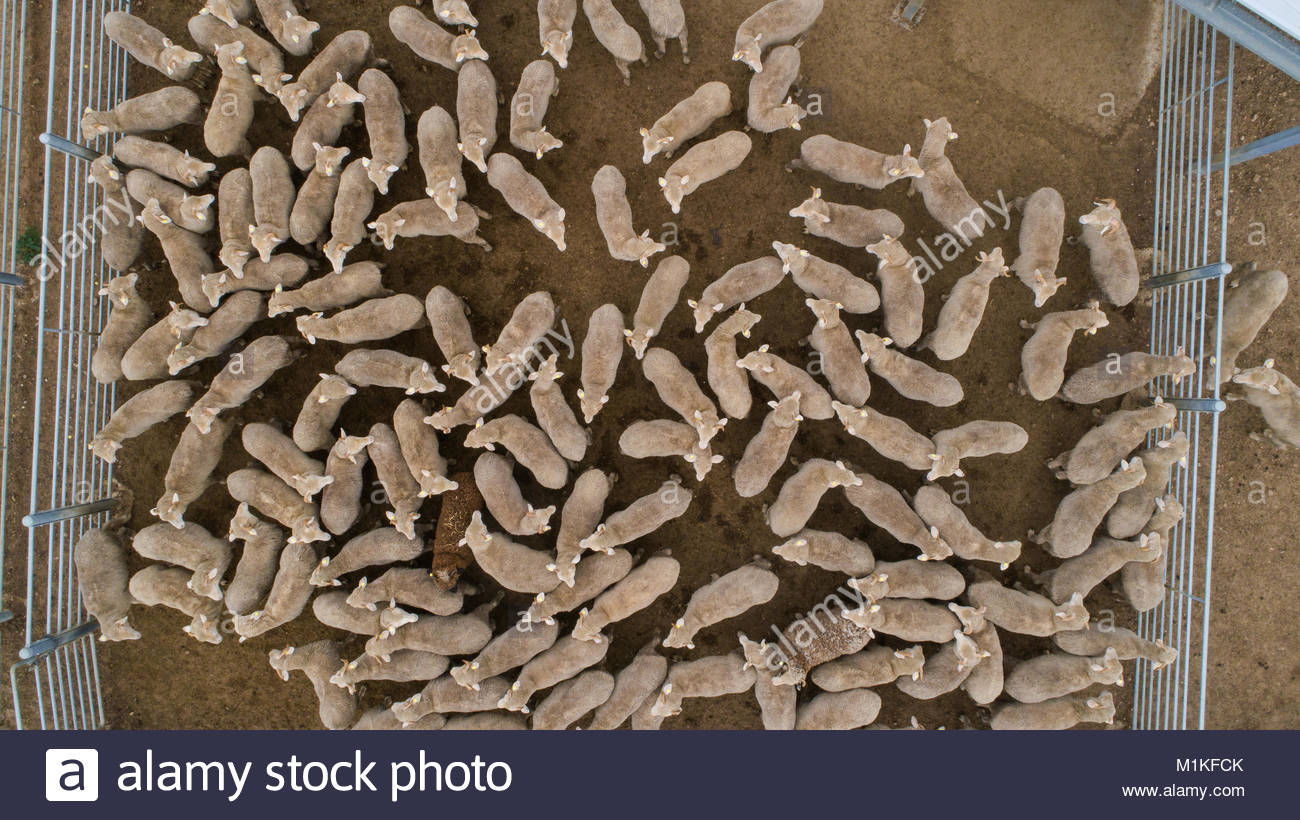sheep: (183, 330, 305, 437), (1029, 455, 1149, 562), (1046, 395, 1180, 485), (1204, 267, 1295, 390), (362, 587, 505, 665), (843, 463, 953, 563), (917, 246, 1012, 360), (906, 482, 1024, 572), (135, 193, 219, 315), (1008, 303, 1112, 401), (281, 28, 387, 124), (907, 114, 987, 241), (662, 561, 776, 650), (579, 470, 697, 554), (1102, 430, 1192, 540), (121, 558, 231, 646), (163, 287, 268, 379), (497, 631, 613, 713), (458, 508, 567, 594), (853, 326, 966, 408), (545, 465, 620, 587), (1059, 344, 1195, 411), (640, 344, 727, 448), (122, 515, 232, 597), (66, 524, 138, 649), (230, 533, 314, 640), (784, 134, 923, 197), (88, 380, 192, 464), (459, 410, 567, 490), (771, 237, 879, 317), (828, 395, 937, 474), (771, 606, 876, 688), (968, 567, 1091, 637), (261, 638, 356, 728), (485, 150, 568, 253), (659, 129, 755, 218), (763, 456, 862, 542), (736, 338, 835, 424), (450, 611, 561, 687), (586, 164, 667, 268), (798, 296, 871, 411), (1066, 192, 1139, 307), (368, 191, 499, 255), (234, 418, 332, 503), (153, 415, 232, 520), (639, 80, 736, 165), (224, 468, 329, 546), (289, 65, 367, 170), (119, 297, 211, 386), (732, 390, 805, 500), (266, 258, 394, 320), (689, 253, 789, 331), (83, 150, 149, 268), (364, 421, 430, 539), (80, 82, 203, 145), (580, 644, 670, 730), (1008, 181, 1068, 310), (413, 100, 474, 225), (472, 447, 557, 536), (294, 292, 428, 348), (387, 4, 491, 76), (1119, 493, 1184, 608), (525, 352, 594, 460), (389, 665, 514, 724), (358, 65, 415, 194), (624, 252, 691, 360), (109, 128, 215, 196), (891, 629, 991, 701), (390, 394, 459, 498), (651, 647, 759, 713), (101, 9, 201, 80), (310, 528, 427, 588), (867, 231, 927, 348), (199, 38, 257, 159), (1006, 647, 1126, 704), (482, 286, 556, 378), (91, 274, 152, 385), (619, 413, 723, 478), (928, 417, 1029, 483), (424, 283, 487, 387), (725, 1, 821, 69), (218, 505, 275, 618), (510, 55, 568, 162), (288, 369, 359, 456), (246, 139, 294, 265), (577, 299, 625, 424), (735, 633, 798, 728), (948, 602, 1005, 705), (325, 646, 455, 691), (840, 596, 961, 644), (209, 164, 259, 280), (1235, 354, 1300, 442), (811, 639, 927, 688), (772, 523, 875, 578), (529, 669, 616, 733), (456, 57, 504, 172), (322, 428, 375, 532), (588, 1, 657, 79), (989, 690, 1116, 730), (310, 589, 420, 635), (1052, 625, 1180, 663), (529, 1, 579, 70)
